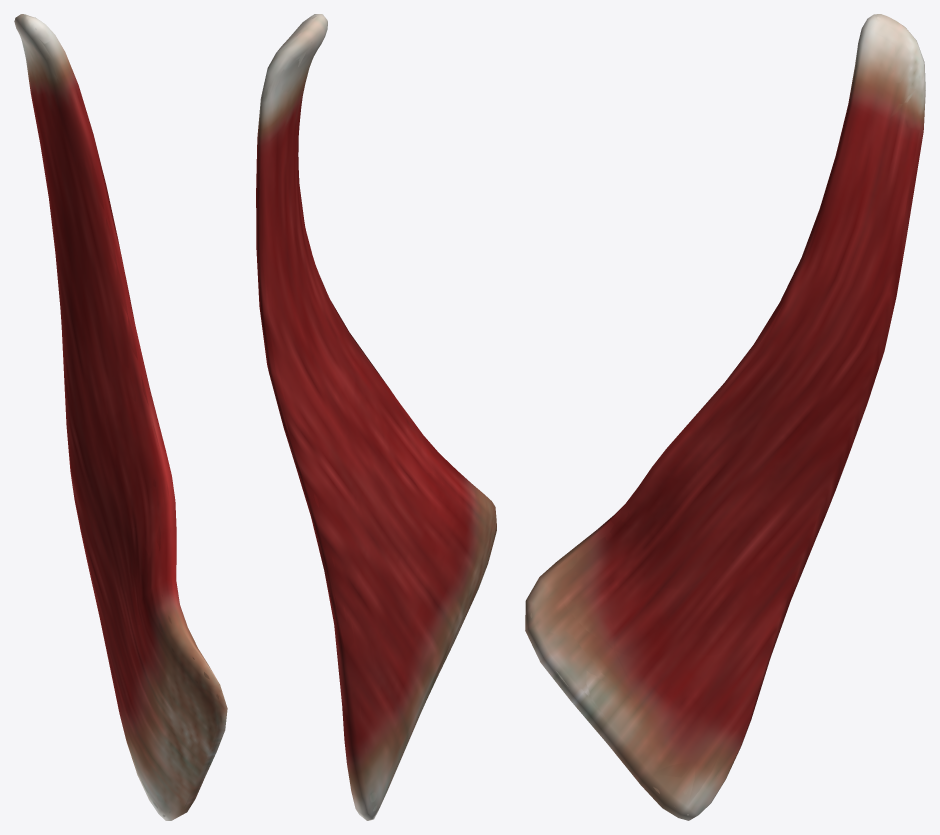
Rendered from L Semimembranosus.fbx.
The picture shows the model from 3 angles, left to right: view 1: azimuth 30°, elevation 25°; view 2: azimuth 150°, elevation 25°; view 3: azimuth 270°, elevation 25°; orthographic projection. The views are drawn at different scales.
Parts seen in each view (by area): view 1: L Semimembranosus, L Semimembranosus high, L Semimembranosus low; view 2: L Semimembranosus, L Semimembranosus high, L Semimembranosus low; view 3: L Semimembranosus, L Semimembranosus low, L Semimembranosus high.
Boxes of the visible parts, box(x1,y1,x2,y2) form: L Semimembranosus: box(14, 14, 227, 820); L Semimembranosus high: box(19, 16, 222, 817); L Semimembranosus low: box(15, 15, 225, 817); L Semimembranosus: box(256, 14, 496, 820); L Semimembranosus high: box(258, 16, 494, 815); L Semimembranosus low: box(256, 14, 494, 819); L Semimembranosus: box(525, 14, 925, 820); L Semimembranosus low: box(526, 14, 924, 818); L Semimembranosus high: box(530, 17, 920, 815).
Bounding box in the file's own units: 0.9656 × 10.99 × 5.11.
